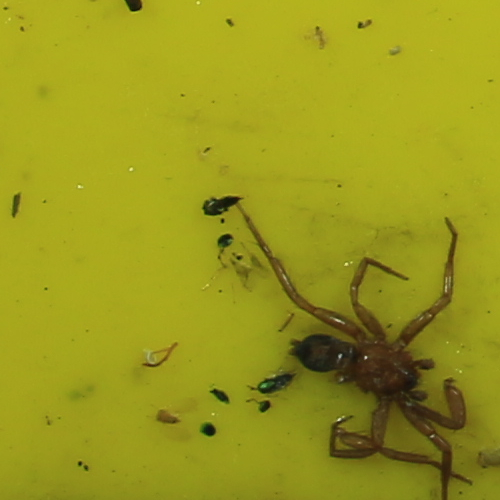Platyobria: (154, 404, 185, 429)
Psyllaephagus: (255, 372, 298, 394)
